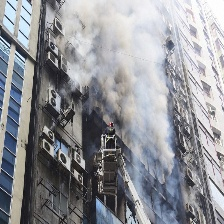smoke: (60, 1, 185, 212)
